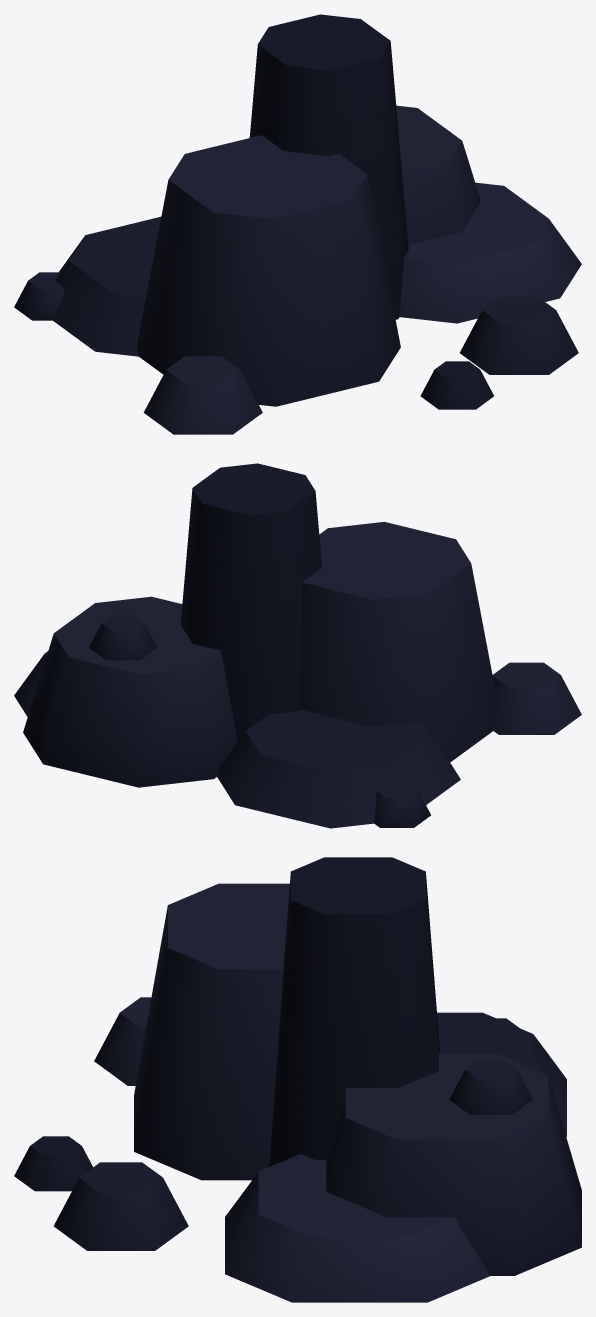
Rendered from stones.fbx.
3 renders of one model, top to bottom at view 1: azimuth 30°, elevation 25°; view 2: azimuth 150°, elevation 25°; view 3: azimuth 270°, elevation 25°, orthographic. The views are drawn at different scales.
Visible parts, largest first — view 1: stones; view 2: stones; view 3: stones.
Boxes of the visible parts, box(x1,y1,x2,y2) form: stones: box(14, 14, 581, 434); stones: box(14, 463, 581, 828); stones: box(14, 857, 581, 1302).
Bounding box in the file's own units: 8.92 × 4.54 × 8.05.
